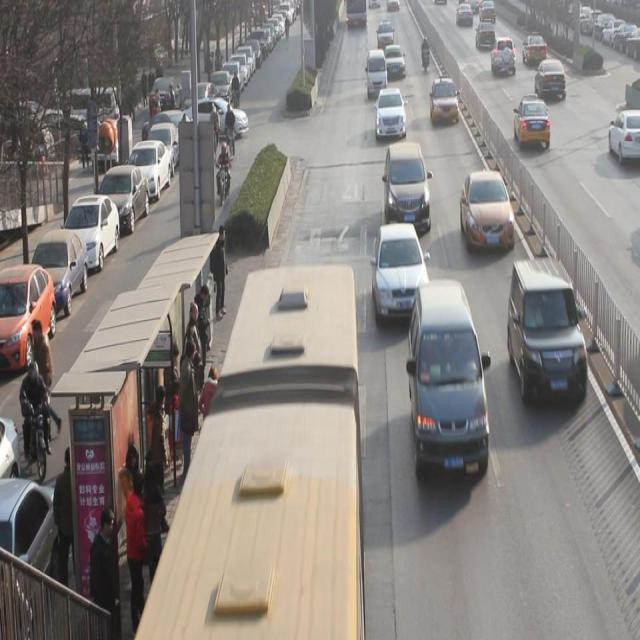car: (508, 258, 588, 406), (373, 224, 430, 318), (384, 142, 431, 234), (461, 171, 515, 251), (515, 95, 551, 148), (609, 109, 640, 164), (376, 87, 406, 138), (431, 77, 459, 124), (535, 58, 566, 100), (492, 36, 516, 74), (522, 34, 547, 66), (384, 45, 405, 79), (475, 22, 496, 48), (377, 21, 394, 51)
truck: (410, 281, 490, 476), (368, 48, 388, 95)
van: (132, 265, 362, 640)
